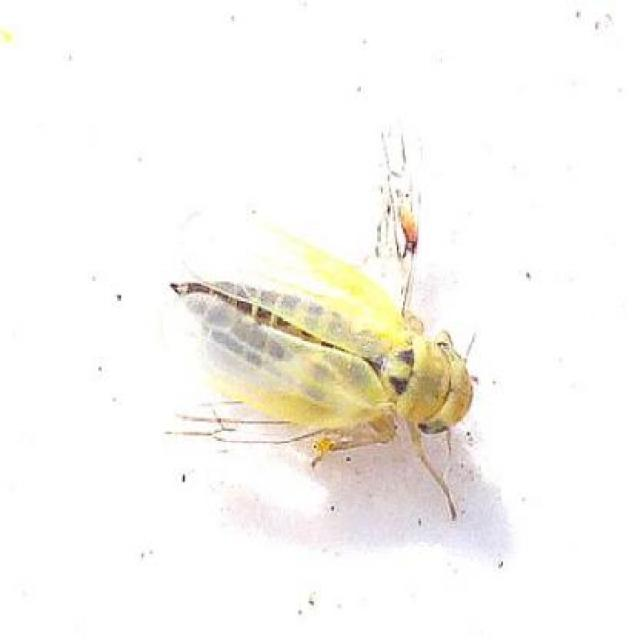green-leafhopper: (146, 191, 485, 491)
